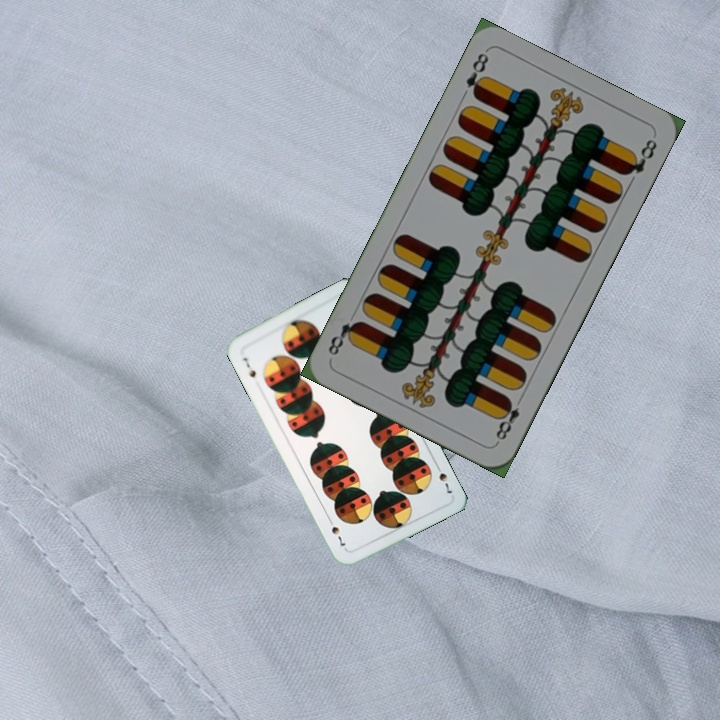E8: (491, 392, 526, 446), (461, 48, 492, 102)
S7: (431, 459, 455, 496), (239, 353, 259, 380)
